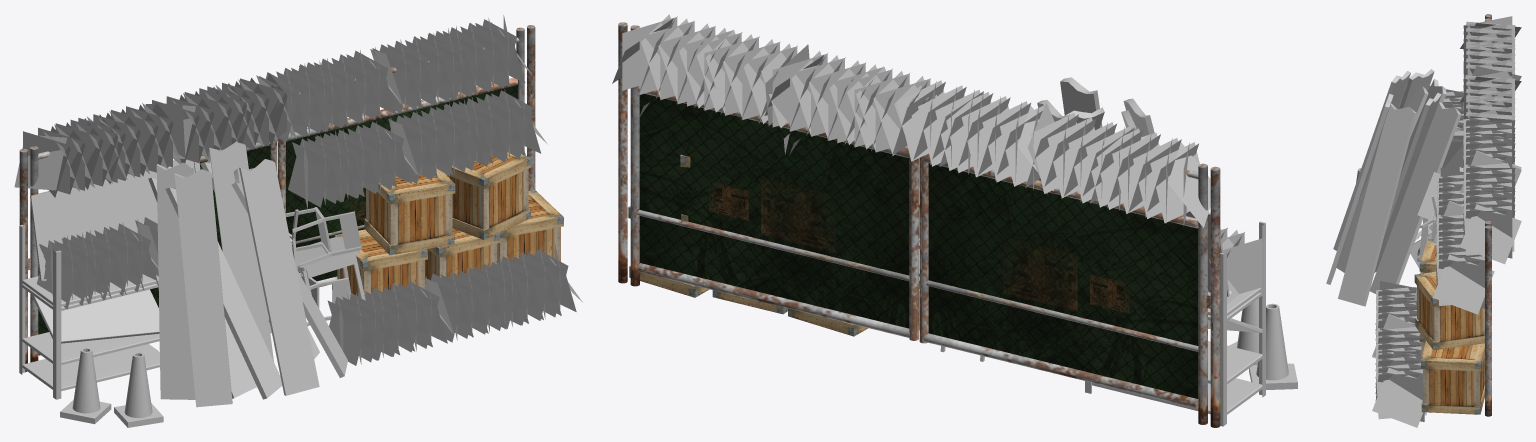
The model's file is RoadBlock_1.fbx.
3 renders of one model, left to right at view 1: azimuth 30°, elevation 25°; view 2: azimuth 150°, elevation 25°; view 3: azimuth 270°, elevation 25°, orthographic. The views are drawn at different scales.
Visible parts, largest first — view 1: polySurface552; view 2: polySurface552; view 3: polySurface552.
Boxes of the visible parts, x1,y1,x2,y2 form: polySurface552: (14, 15, 582, 427); polySurface552: (612, 14, 1297, 427); polySurface552: (1326, 14, 1521, 427).
Bounding box in the file's own units: 483 × 222 × 182.
